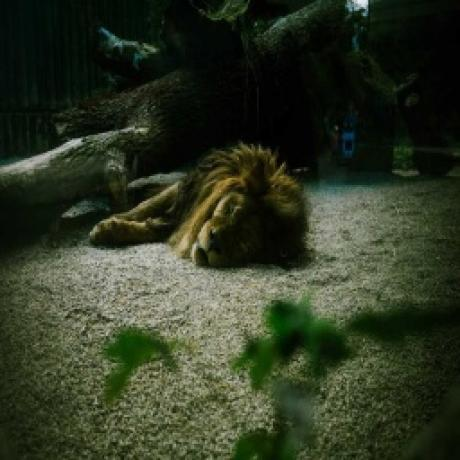Lion: (86, 142, 318, 274)
